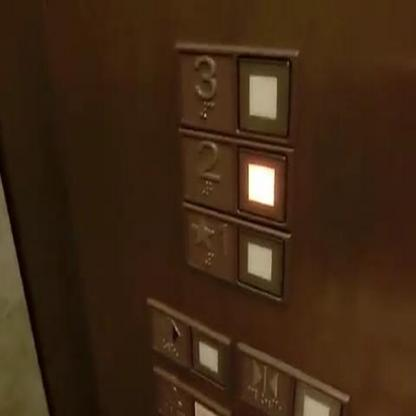2: (175, 121, 294, 233)
3: (173, 39, 300, 146)
open: (144, 294, 232, 396)
s1: (176, 195, 290, 305)
